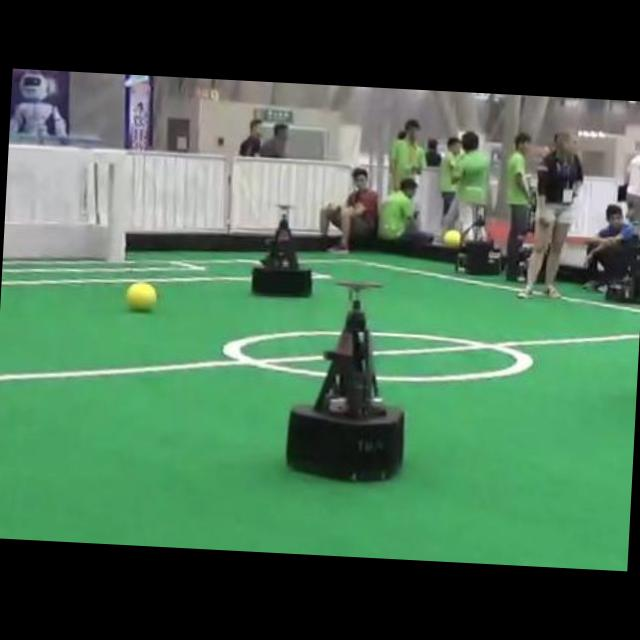ball: (125, 282, 156, 311), (442, 229, 460, 247)
goal: (105, 152, 132, 262)
robot: (286, 281, 404, 481), (251, 205, 311, 297), (455, 204, 501, 275)
